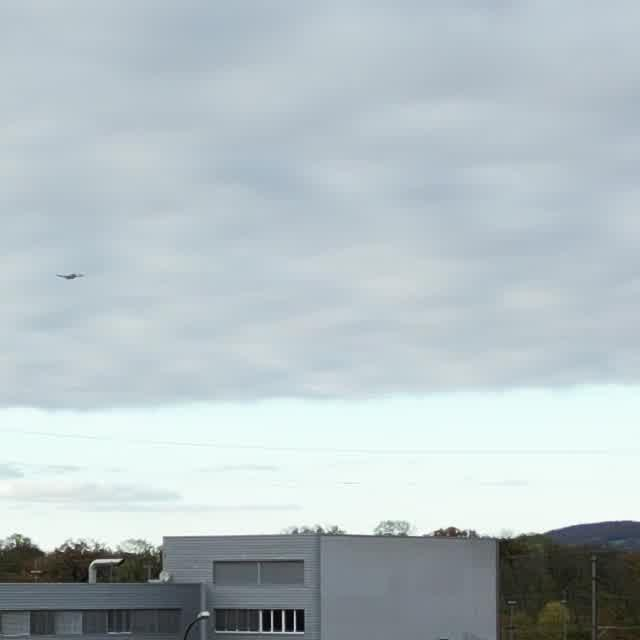Drohne: (56, 273, 83, 279)
